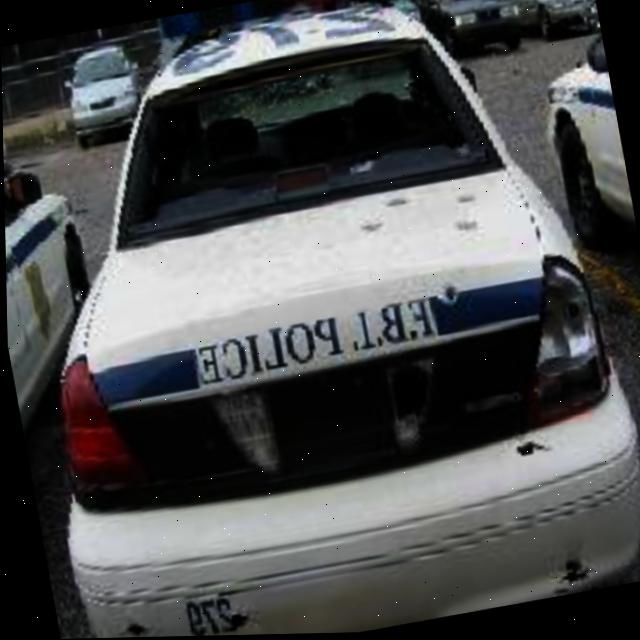emergency: (0, 0, 640, 640), (2, 114, 127, 477), (522, 0, 640, 272)
